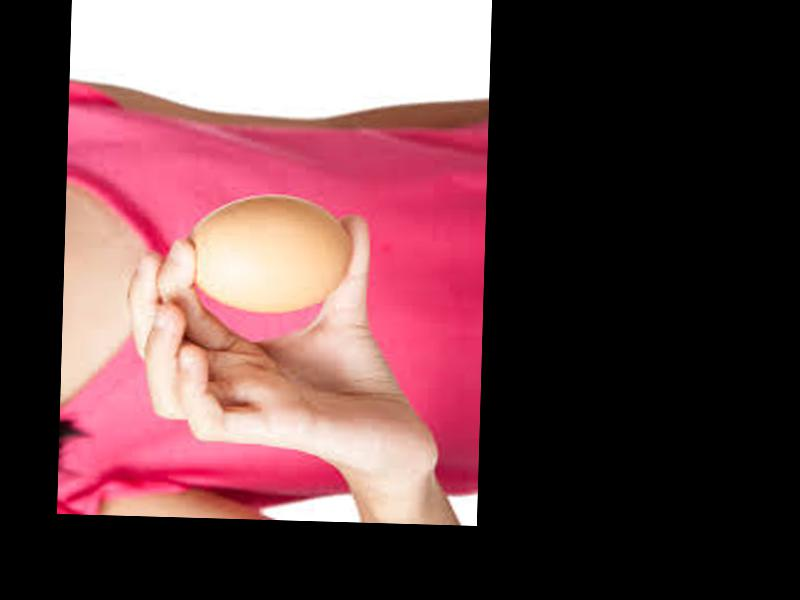Eggs: (182, 193, 351, 314)
